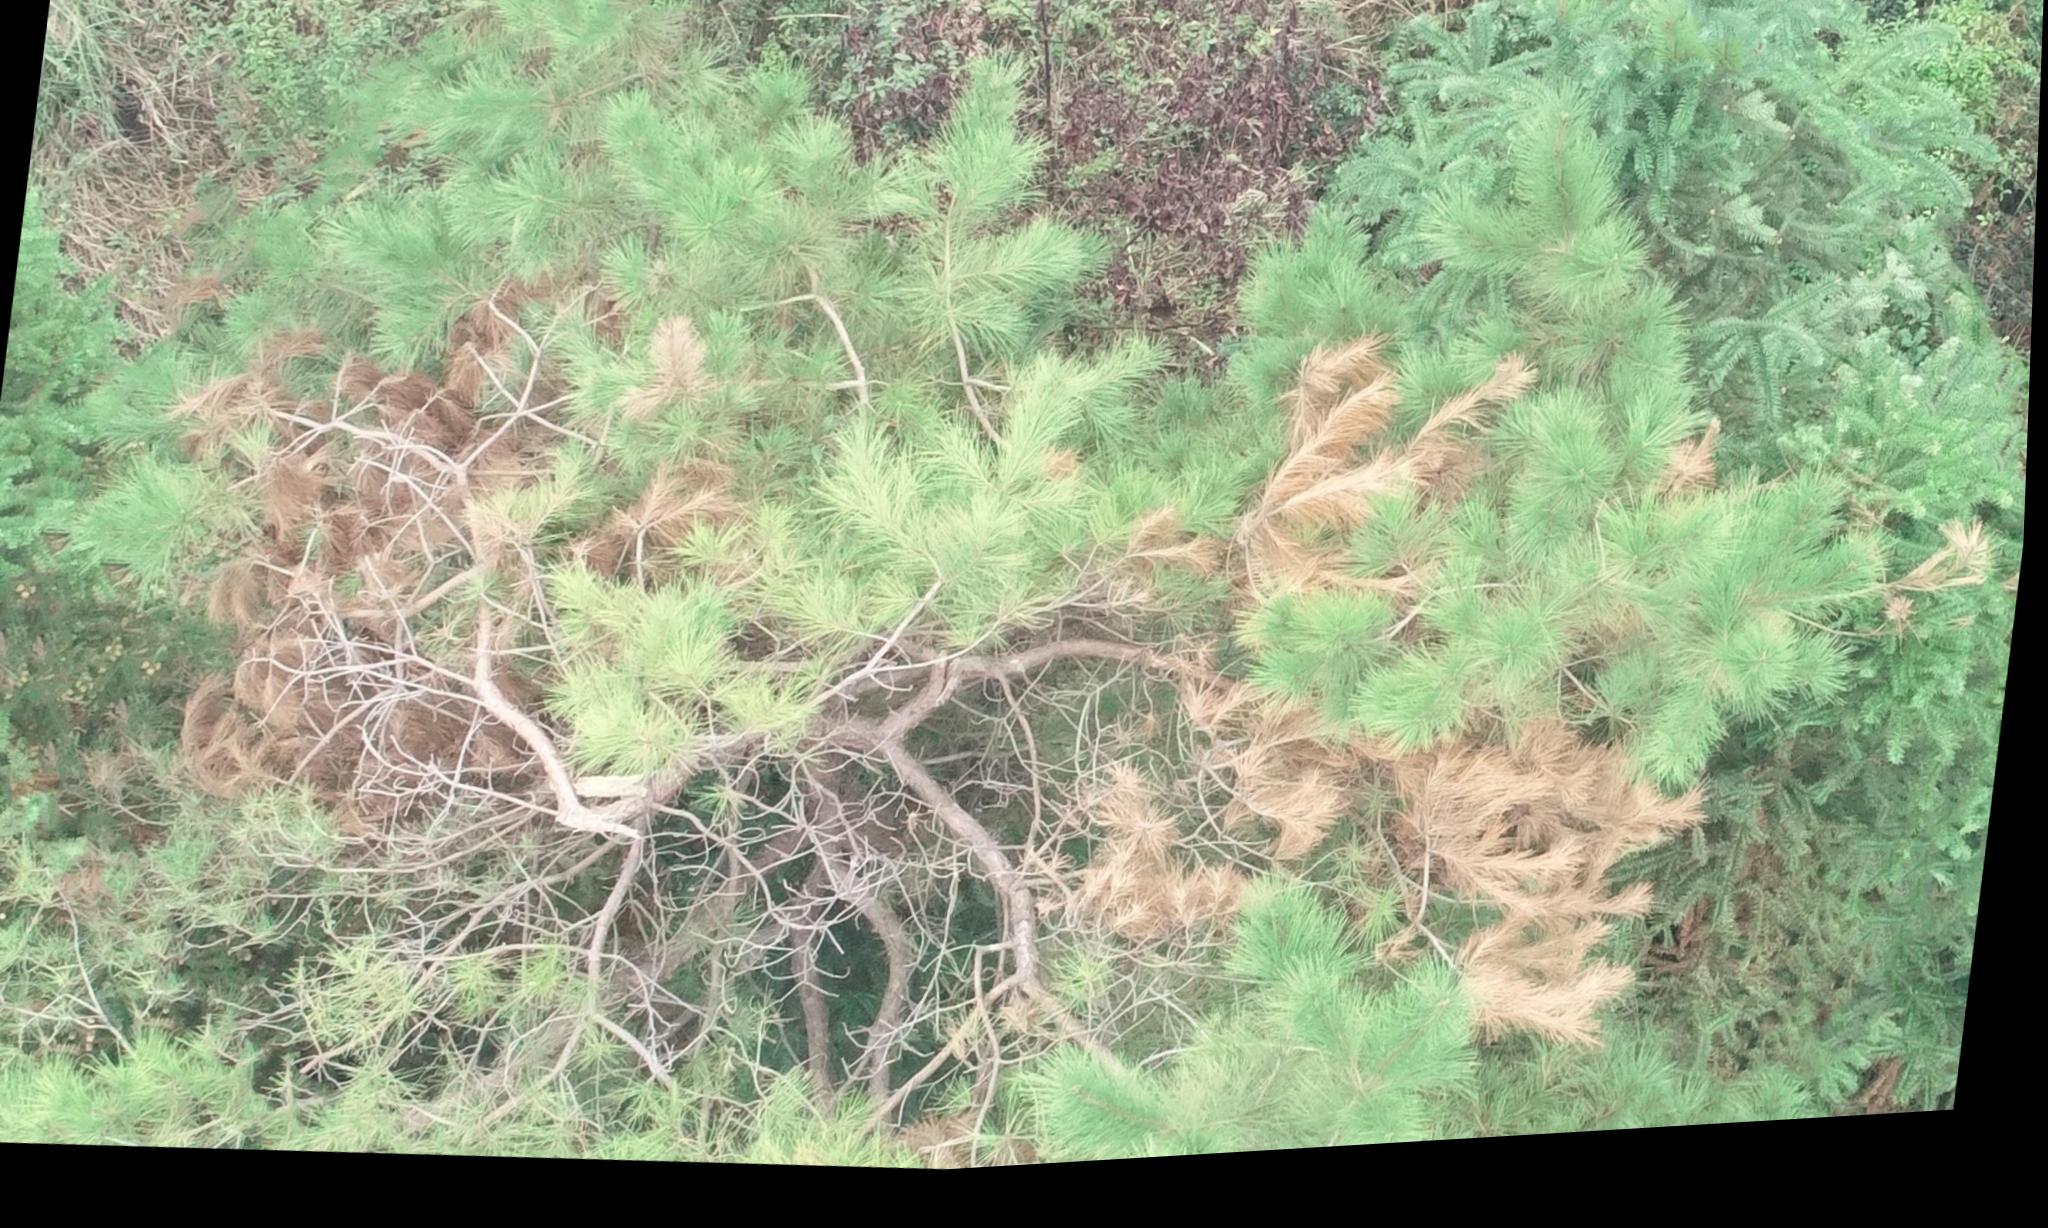heavy: (1061, 298, 1754, 1088), (132, 276, 807, 902)
